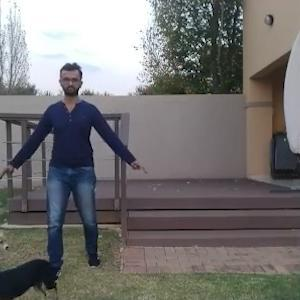land: (17, 68, 134, 270)
